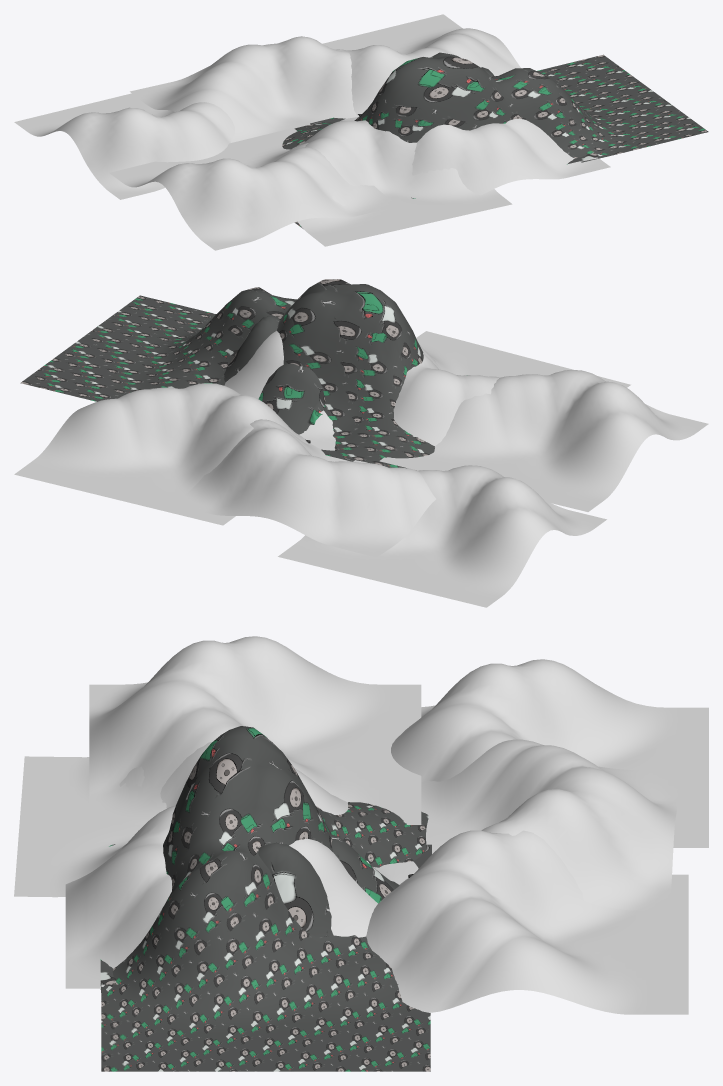
Rendered from junkpile2.fbx.
3 renders of one model, top to bottom at view 1: azimuth 30°, elevation 25°; view 2: azimuth 150°, elevation 25°; view 3: azimuth 270°, elevation 25°, orthographic. The views are drawn at different scales.
Visible parts, largest first — view 1: Plane.001, Plane.009, Plane.005, Plane.007, Plane.008, Plane.004, Plane.006; view 2: Plane.001, Plane.009, Plane.006, Plane.008, Plane.005, Plane.007, Plane, Plane.002; view 3: Plane.001, Plane.006, Plane.009, Plane.005, Plane.008, Plane.007, Plane.004, Plane, Plane.002.
Part boxes in pixels (<box>): Plane.001: <box>282,52,708,228</box>; Plane.009: <box>109,128,398,250</box>; Plane.005: <box>130,36,357,142</box>; Plane.007: <box>292,120,512,246</box>; Plane.008: <box>14,93,234,199</box>; Plane.004: <box>412,118,610,195</box>; Plane.006: <box>322,14,520,116</box>; Plane.001: <box>20,279,434,470</box>; Plane.009: <box>379,370,708,511</box>; Plane.006: <box>14,383,310,525</box>; Plane.008: <box>278,465,606,607</box>; Plane.005: <box>172,419,435,557</box>; Plane.007: <box>393,331,630,446</box>; Plane: <box>224,315,354,461</box>; Plane.002: <box>224,331,349,461</box>; Plane.001: <box>100,726,430,1071</box>; Plane.006: <box>366,830,688,1014</box>; Plane.009: <box>89,636,421,824</box>; Plane.005: <box>421,739,679,910</box>; Plane.008: <box>391,659,708,847</box>; Plane.007: <box>14,741,347,897</box>; Plane.004: <box>65,805,175,988</box>; Plane: <box>100,834,431,984</box>; Plane.002: <box>101,838,418,986</box>.
Size of the model in its own units: 4338 by 914 by 3346.
